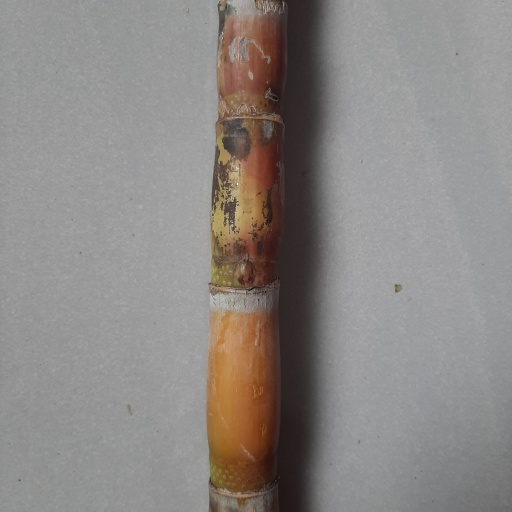Bud: (232, 259, 258, 290)
